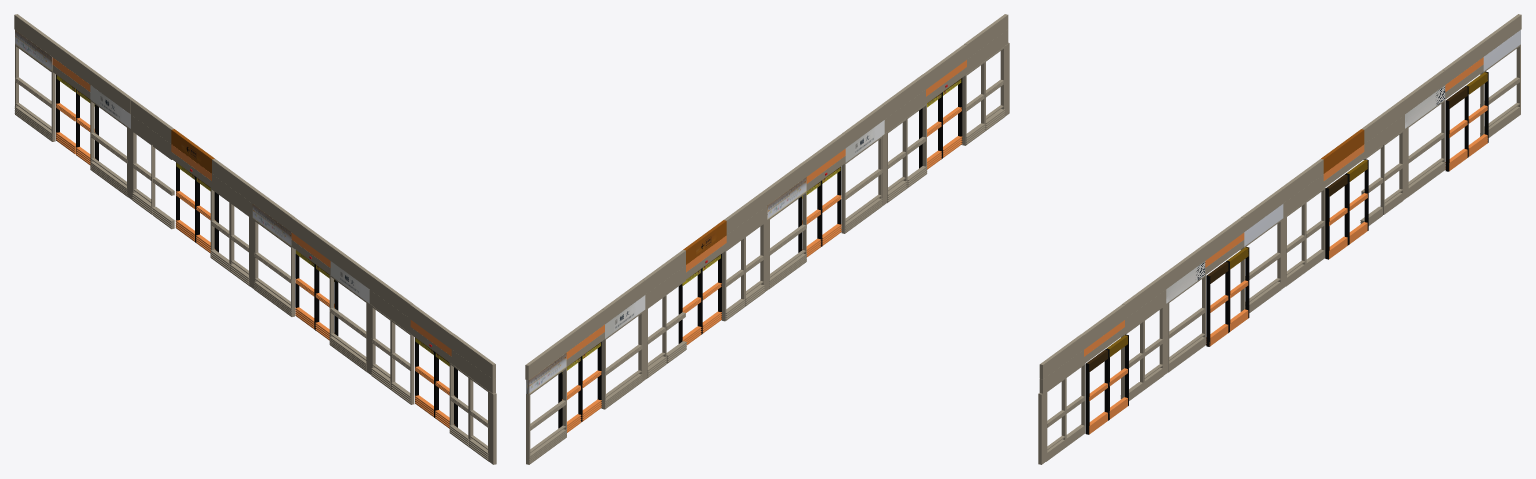
Rendered from Platform_nan.fbx.
The picture shows the model from 3 angles, left to right: view 1: azimuth 30°, elevation 25°; view 2: azimuth 150°, elevation 25°; view 3: azimuth 330°, elevation 25°; orthographic projection.
Parts seen in each view (by area): view 1: 立方體.251, 立方體.247, 立方體.252, 立方體.254, 立方體.255, 立方體.253, 立方體.258, 立方體.250, 立方體.249, 立方體.248, 立方體.256, 立方體.257 (+9 smaller); view 2: 立方體.256, 立方體.251, 立方體.252, 立方體.253, 立方體.247, 立方體.258, 立方體.254, 立方體.255, 立方體.250, 立方體.249, 立方體.248, 立方體.257 (+8 smaller); view 3: 立方體.251, 立方體.252, 立方體.254, 立方體.247, 立方體.253, 立方體.255, 立方體.258, 立方體.250, 立方體.249, 立方體.248, 立方體.256, 立方體.257 (+9 smaller).
Part boxes in pixels (bbox=[...]): 立方體.251: bbox=[451, 334, 495, 379]; 立方體.247: bbox=[410, 304, 454, 349]; 立方體.252: bbox=[369, 274, 413, 318]; 立方體.254: bbox=[171, 129, 214, 173]; 立方體.255: bbox=[131, 99, 173, 143]; 立方體.253: bbox=[212, 159, 255, 203]; 立方體.258: bbox=[90, 70, 133, 114]; 立方體.250: bbox=[252, 188, 294, 231]; 立方體.249: bbox=[291, 217, 333, 260]; 立方體.248: bbox=[330, 245, 371, 288]; 立方體.256: bbox=[14, 14, 55, 56]; 立方體.257: bbox=[52, 42, 93, 84]; 立方體.256: bbox=[525, 336, 567, 380]; 立方體.251: bbox=[964, 14, 1008, 58]; 立方體.252: bbox=[882, 74, 925, 119]; 立方體.253: bbox=[724, 190, 767, 234]; 立方體.247: bbox=[923, 44, 966, 89]; 立方體.258: bbox=[602, 279, 645, 323]; 立方體.254: bbox=[683, 220, 726, 264]; 立方體.255: bbox=[642, 250, 685, 294]; 立方體.250: bbox=[764, 161, 806, 205]; 立方體.249: bbox=[804, 133, 845, 176]; 立方體.248: bbox=[842, 104, 884, 147]; 立方體.257: bbox=[564, 309, 604, 351]; 立方體.251: bbox=[1039, 334, 1083, 379]; 立方體.252: bbox=[1122, 274, 1166, 319]; 立方體.254: bbox=[1321, 129, 1364, 173]; 立方體.247: bbox=[1081, 304, 1124, 349]; 立方體.253: bbox=[1280, 159, 1323, 203]; 立方體.255: bbox=[1362, 99, 1404, 143]; 立方體.258: bbox=[1402, 70, 1445, 114]; 立方體.250: bbox=[1241, 188, 1283, 231]; 立方體.249: bbox=[1202, 217, 1244, 260]; 立方體.248: bbox=[1163, 245, 1205, 288]; 立方體.256: bbox=[1480, 14, 1521, 56]; 立方體.257: bbox=[1442, 42, 1482, 84].
Bounding box in the file's own units: 53.9 × 601 × 5244.
84 materials, 13 textured.
